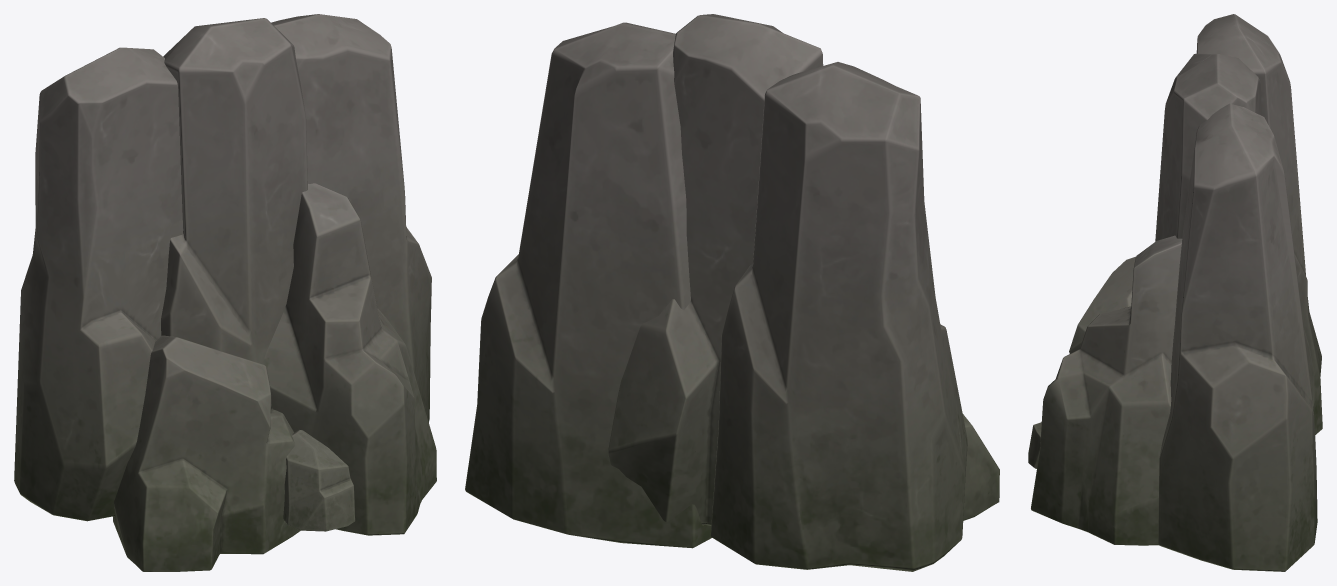
File: AP2_Rock14.glb
The picture shows the model from 3 angles, left to right: view 1: azimuth 30°, elevation 25°; view 2: azimuth 150°, elevation 25°; view 3: azimuth 270°, elevation 25°; orthographic projection. The views are drawn at different scales.
Visible parts, largest first — view 1: Rock14_LOD0; view 2: Rock14_LOD0; view 3: Rock14_LOD0.
Part boxes in pixels (x1,y1,x2,y2): Rock14_LOD0: [14, 14, 436, 571]; Rock14_LOD0: [465, 14, 999, 571]; Rock14_LOD0: [1028, 14, 1322, 571].
Bounding box in the file's own units: 7.7 × 8.25 × 5.29.
1 material, 1 textured.
